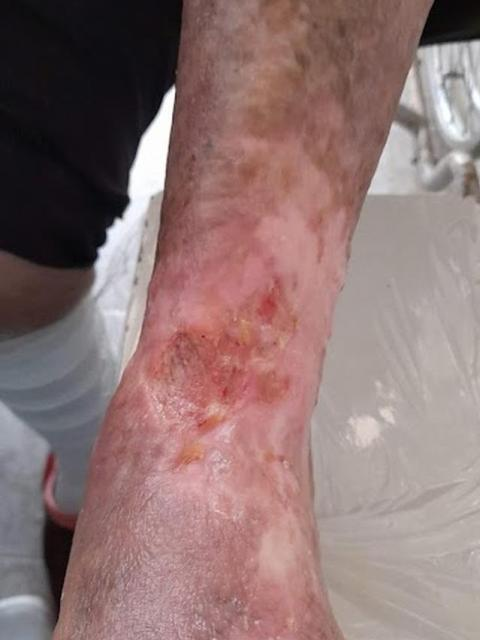wound: (139, 251, 298, 464)
